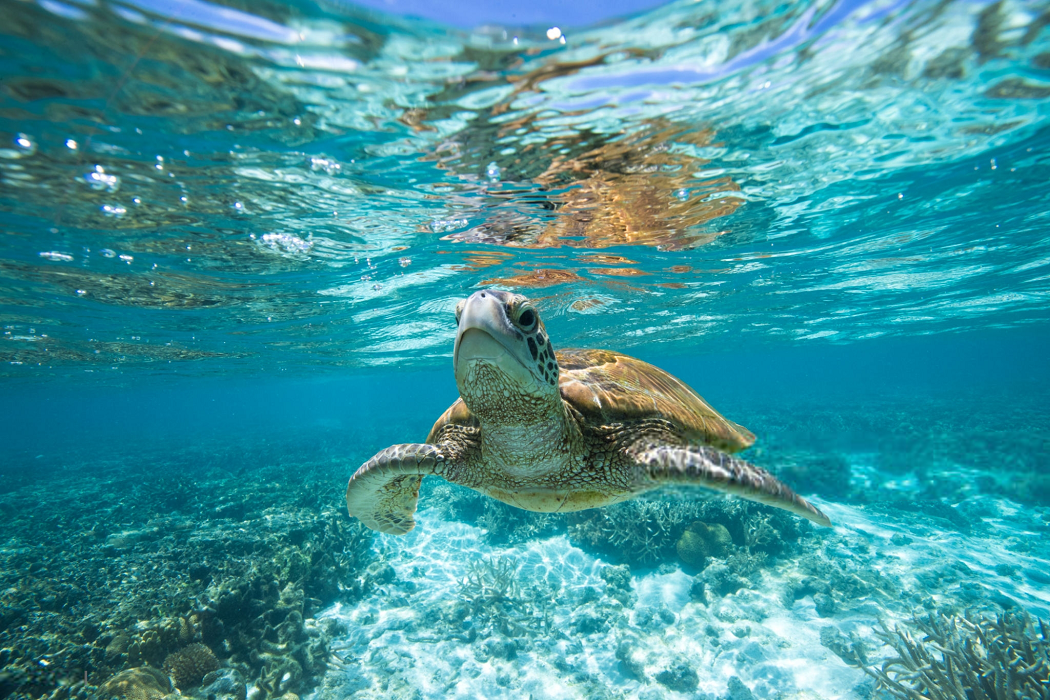turtle: (343, 281, 829, 543)
